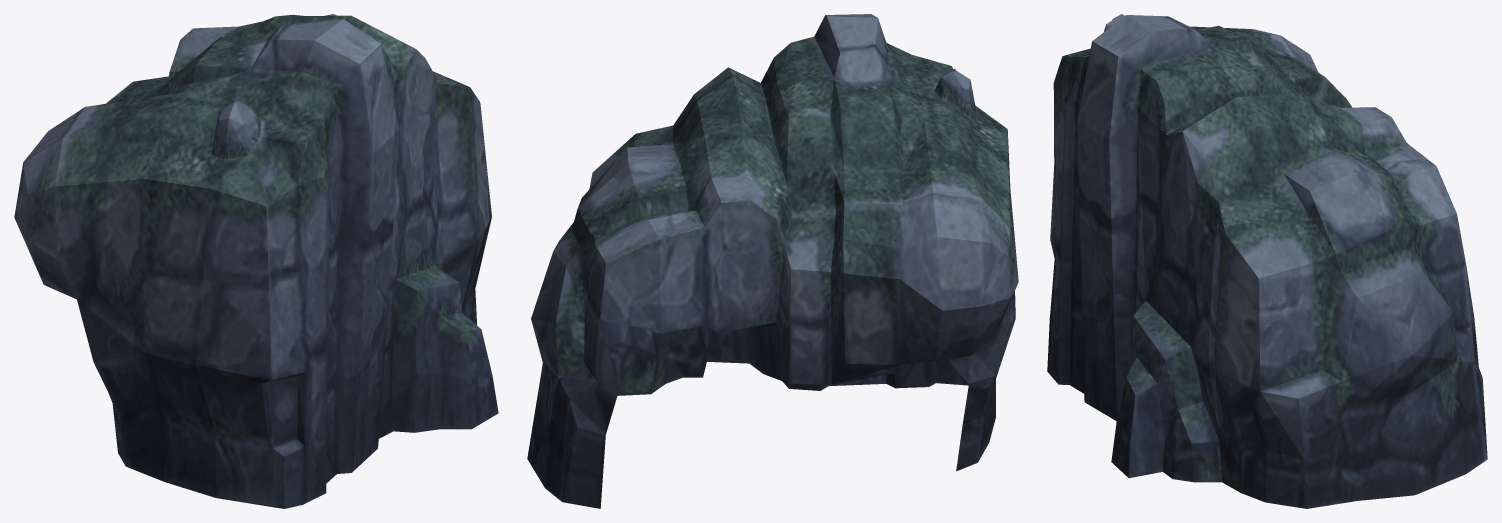
File: cs_lobbynew02_wujian_zhiji_st05.FBX
3 views of the same model, side by side, from view 1: azimuth 30°, elevation 25°; view 2: azimuth 150°, elevation 25°; view 3: azimuth 270°, elevation 25° (orthographic). The views are drawn at different scales.
Parts seen in each view (by area): view 1: cs_lobbynew02_wujian_zhiji_st05; view 2: cs_lobbynew02_wujian_zhiji_st05; view 3: cs_lobbynew02_wujian_zhiji_st05.
Part boxes in pixels (x1=…): cs_lobbynew02_wujian_zhiji_st05: x1=14, y1=14, x2=498, y2=508; cs_lobbynew02_wujian_zhiji_st05: x1=527, y1=14, x2=1018, y2=508; cs_lobbynew02_wujian_zhiji_st05: x1=1047, y1=14, x2=1487, y2=508.
Bounding box in the file's own units: 1313 × 1119 × 1168.
